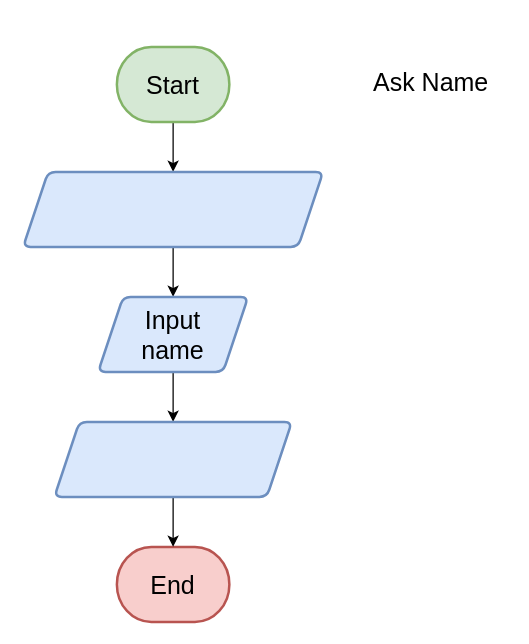
Some shapes in this 529 by 644 pixel diagram are drawn without their labels. The centre of each missing label's shape, as x and y in pixels:
Print "What is your name?": (172,209)
Print Hello " + name: (172,459)
